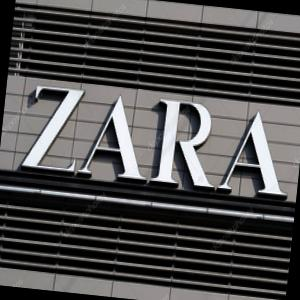zara: (16, 77, 298, 206)
